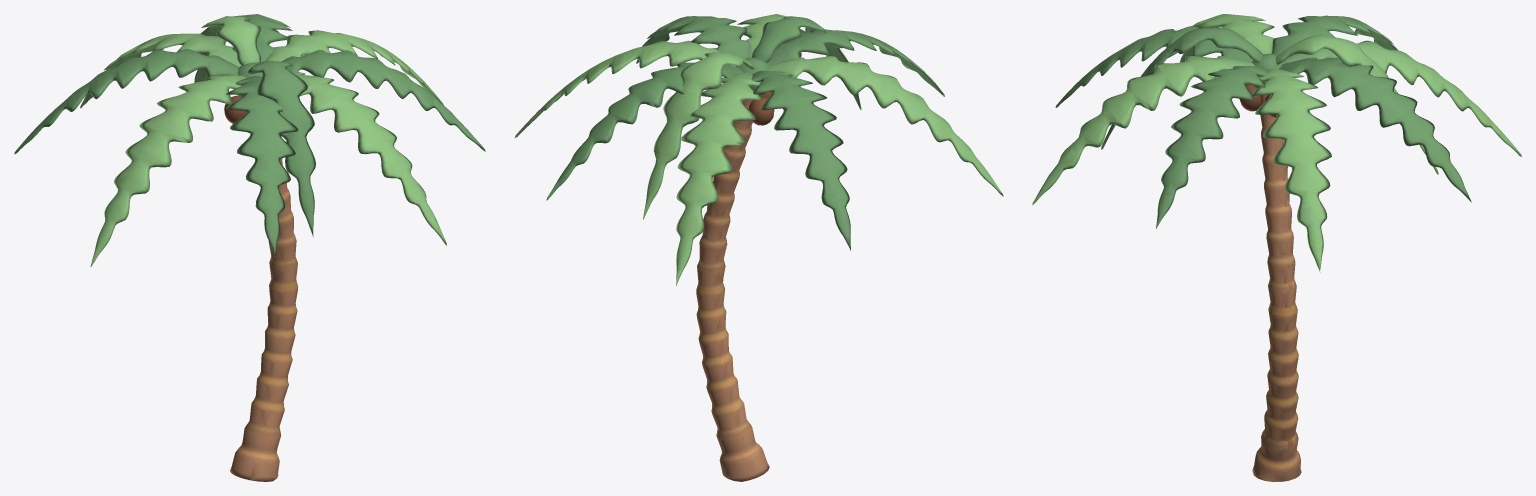
File: palm-tree.glb
3 renders of one model, left to right at view 1: azimuth 30°, elevation 25°; view 2: azimuth 150°, elevation 25°; view 3: azimuth 270°, elevation 25°, orthographic.
Visible parts, largest first — view 1: palm-tree_body; view 2: palm-tree_body; view 3: palm-tree_body.
Boxes of the visible parts, x1,y1,x2,y2 form: palm-tree_body: (14, 14, 485, 481); palm-tree_body: (514, 14, 1003, 481); palm-tree_body: (1032, 14, 1521, 481).
Bounding box in the file's own units: 5.18 × 5.09 × 5.18.
1 material, 1 textured.
